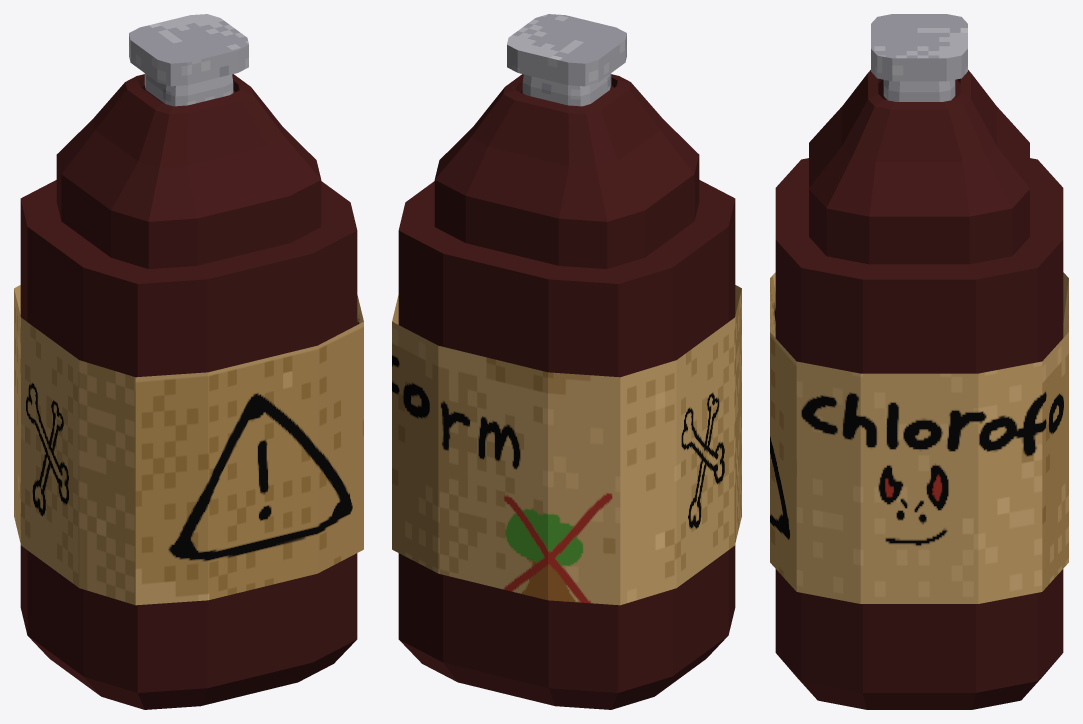
The model's file is Cloroformio.fbx.
The picture shows the model from 3 angles, left to right: view 1: azimuth 30°, elevation 25°; view 2: azimuth 150°, elevation 25°; view 3: azimuth 270°, elevation 25°; orthographic projection.
Parts seen in each view (by area): view 1: Cube.077; view 2: Cube.077; view 3: Cube.077.
Boxes of the visible parts, x1,y1,x2,y2 form: Cube.077: (14,14,363,709); Cube.077: (392,14,741,709); Cube.077: (770,14,1068,709).
Bounding box in the file's own units: 0.0843 × 0.1773 × 0.0777.
3 materials, 2 textured.
